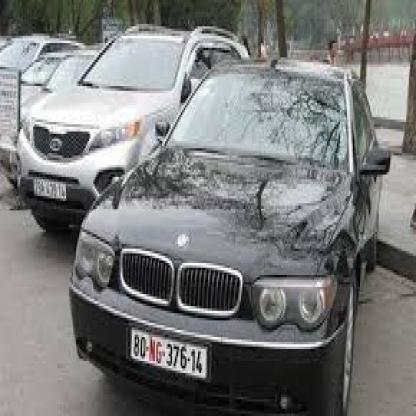biensoxe: (126, 325, 212, 386)
